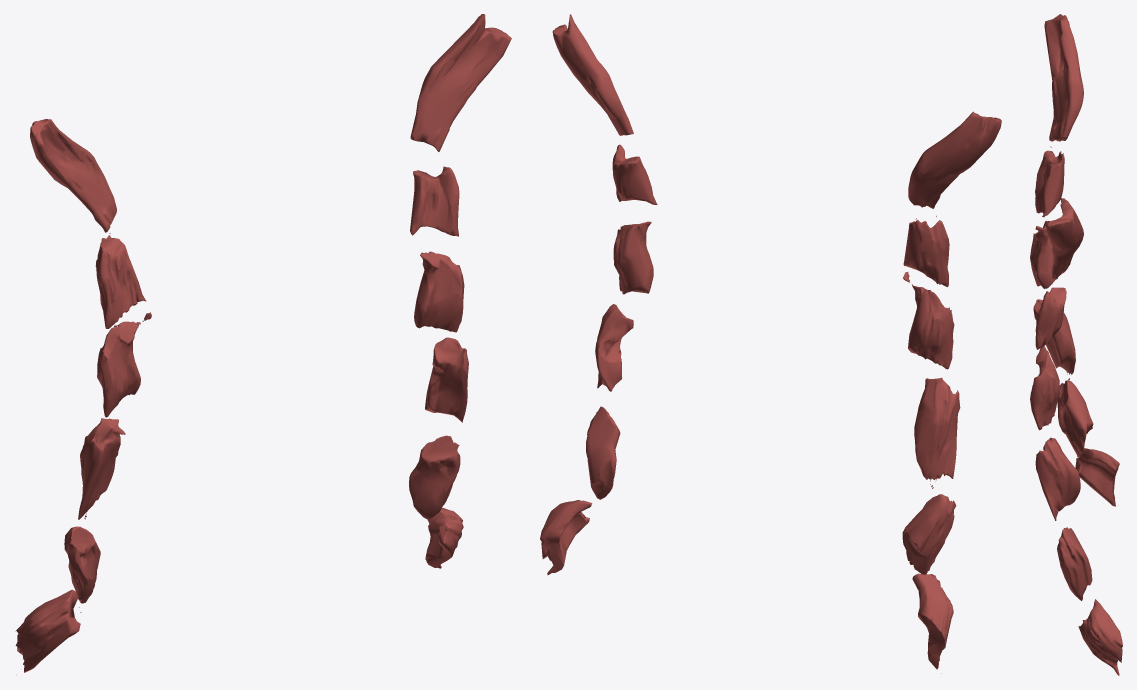
File: FMA71443.glb
3 renders of one model, left to right at view 1: azimuth 30°, elevation 25°; view 2: azimuth 150°, elevation 25°; view 3: azimuth 270°, elevation 25°, orthographic. The views are drawn at different scales.
Visible parts, largest first — view 1: FMA71443; view 2: FMA71443; view 3: FMA71443.
Part boxes in pixels (box(x1,y1,x2,y2)): FMA71443: box(15, 14, 511, 672); FMA71443: box(540, 14, 1001, 673); FMA71443: box(1030, 14, 1122, 675).
Size of the model in its own units: 0.0716 by 0.0836 by 0.0145.
